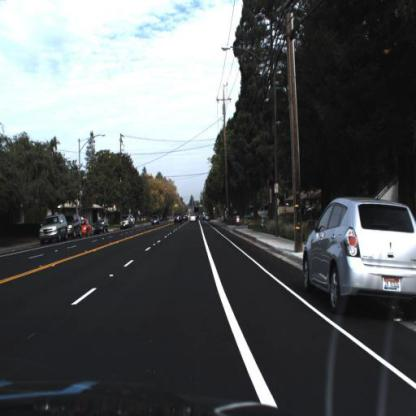car: (302, 197, 416, 315), (38, 214, 66, 245), (40, 214, 69, 241), (66, 213, 82, 239), (80, 217, 94, 238), (90, 221, 111, 235), (120, 216, 132, 229), (152, 216, 161, 228)
